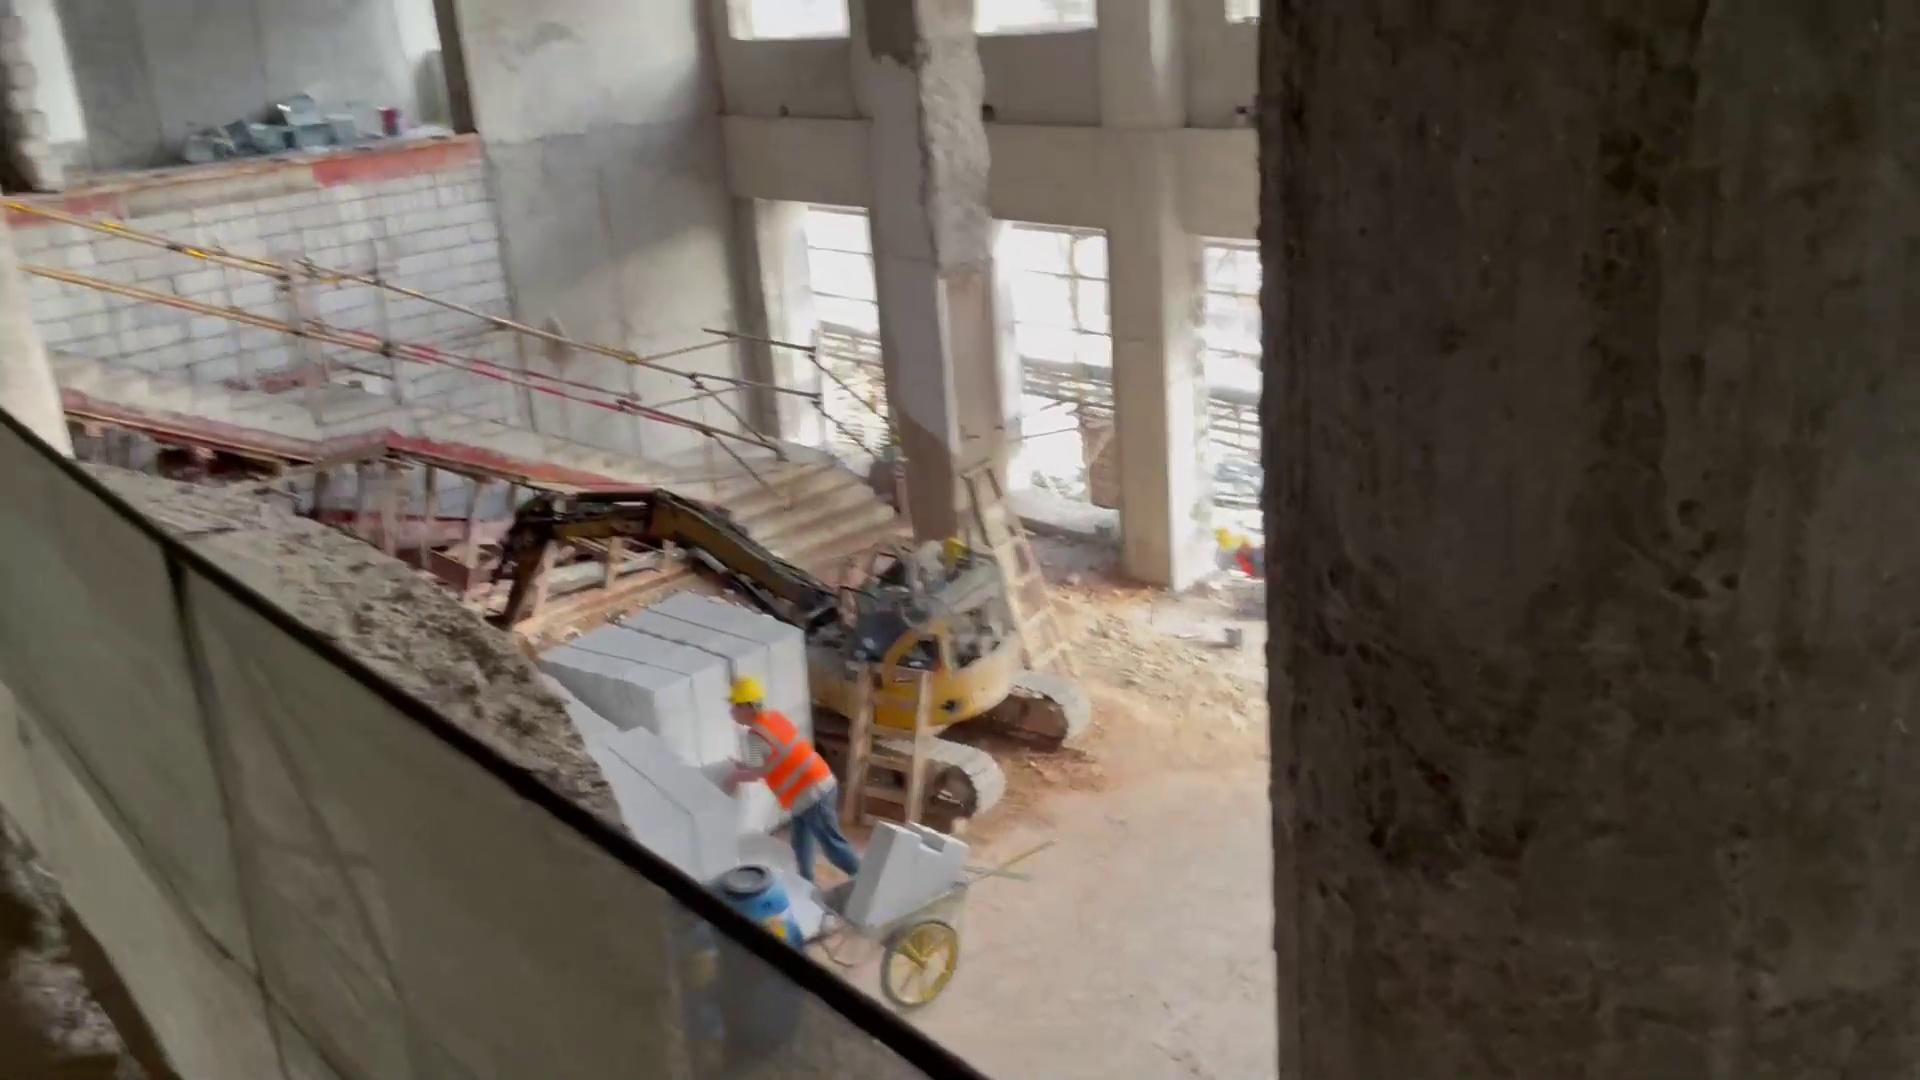brick: (518, 593, 823, 872)
handcart: (822, 841, 1072, 1011)
helmet: (728, 670, 766, 704), (1211, 523, 1241, 550)
person: (716, 684, 869, 882)
vest: (734, 709, 830, 797), (1237, 544, 1257, 578)
